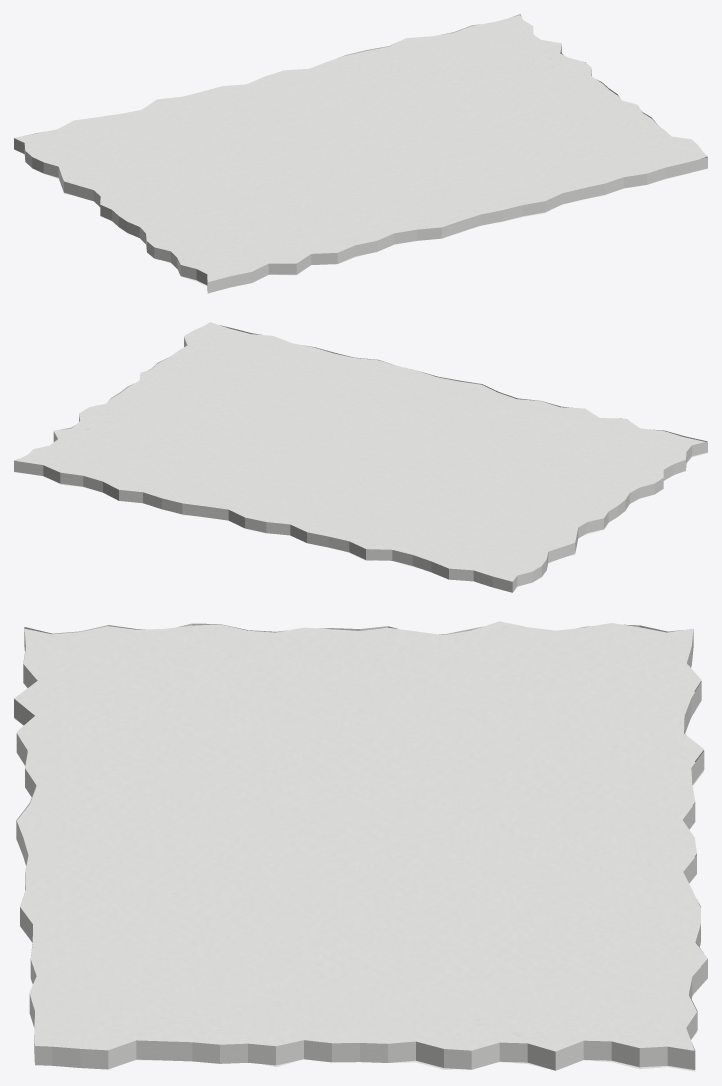
The model's file is cotton_paper_3.glb.
3 views of the same model, one above another, from view 1: azimuth 30°, elevation 25°; view 2: azimuth 150°, elevation 25°; view 3: azimuth 270°, elevation 25° (orthographic). The views are drawn at different scales.
Size of the model in its own units: 2.54 by 0.0646 by 1.74.
1 material, 1 textured.
